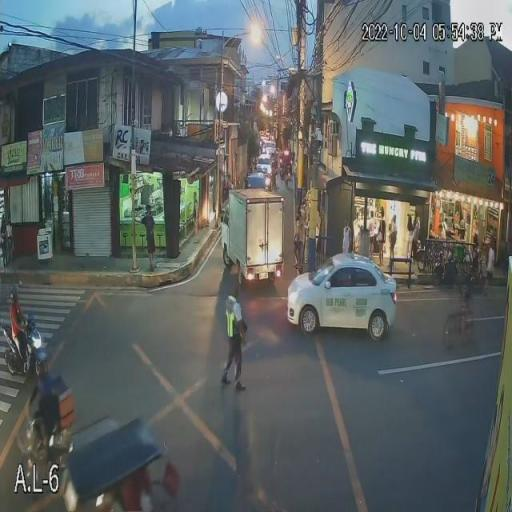helmet: (36, 362, 54, 380), (10, 292, 22, 302)
motorcycle: (22, 419, 80, 490), (0, 313, 48, 378)
rider: (30, 362, 72, 452), (9, 291, 32, 352)
